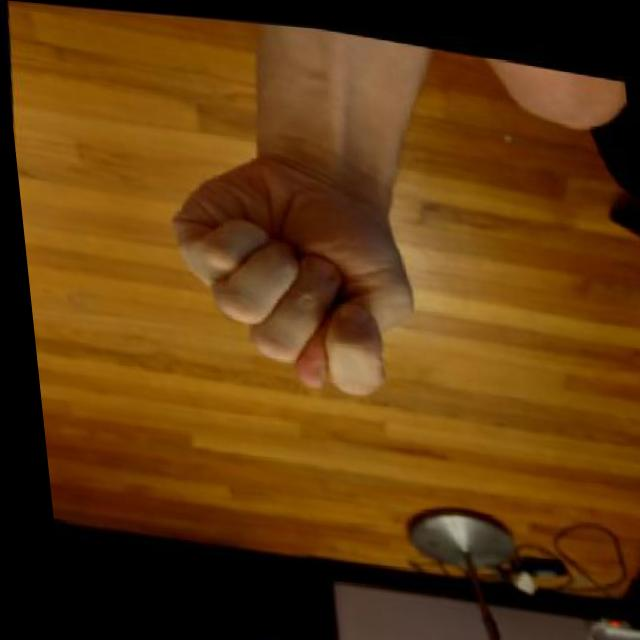T: (138, 127, 443, 410)
